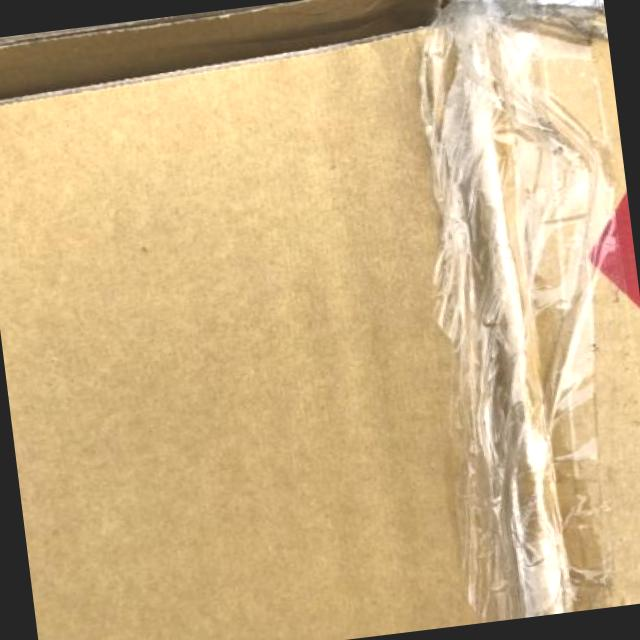cardboard: (0, 30, 476, 639), (0, 35, 471, 639), (0, 0, 443, 100)
plastic: (420, 0, 614, 621)
